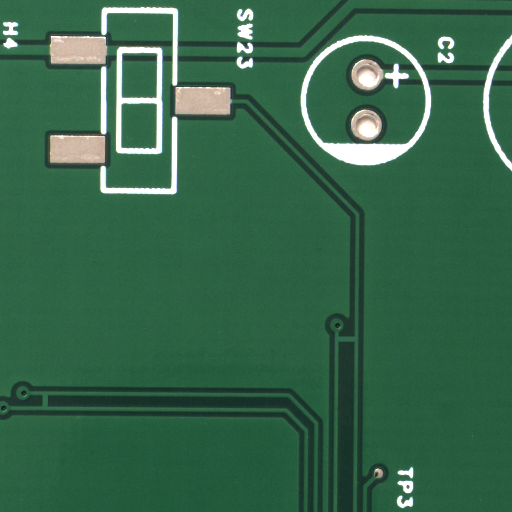Short: (346, 339, 367, 351), (44, 400, 54, 421)
